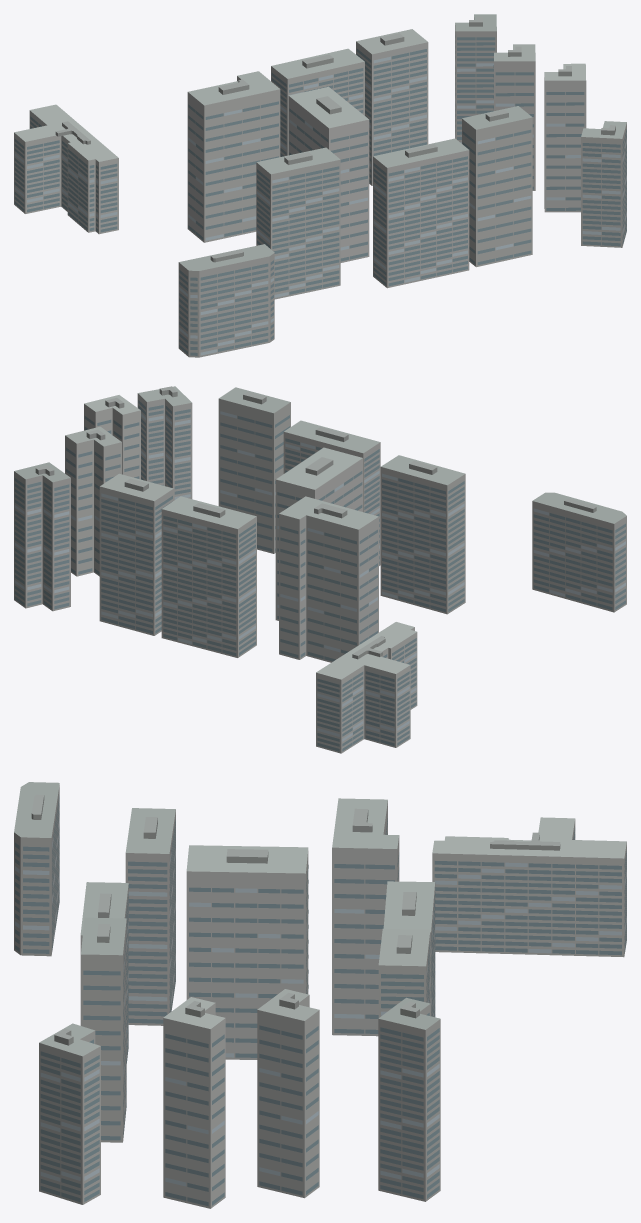
File: apt-a13010004.glb
The picture shows the model from 3 angles, top to bottom: view 1: azimuth 30°, elevation 25°; view 2: azimuth 150°, elevation 25°; view 3: azimuth 270°, elevation 25°; orthographic projection. The views are drawn at different scales.
Visible parts, largest first — view 1: apt-a13010004; view 2: apt-a13010004; view 3: apt-a13010004.
Boxes of the visible parts, box(x1,y1,x2,y2) form: apt-a13010004: box(14, 14, 626, 357); apt-a13010004: box(14, 386, 626, 753); apt-a13010004: box(14, 782, 626, 1208).
Bounding box in the file's own units: 256 × 75 × 215.
